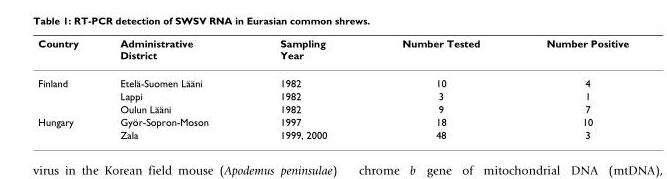table: (37, 36, 628, 140)
table column: (363, 36, 512, 140), (98, 36, 243, 140), (243, 36, 363, 140), (512, 36, 628, 140), (37, 36, 98, 140)
table column header: (37, 36, 628, 68)
table row: (37, 36, 628, 68), (37, 68, 628, 89), (37, 89, 628, 102), (37, 102, 628, 115), (37, 115, 628, 128), (37, 128, 628, 140)
table spanning cell: (37, 68, 98, 115), (37, 115, 98, 140)
